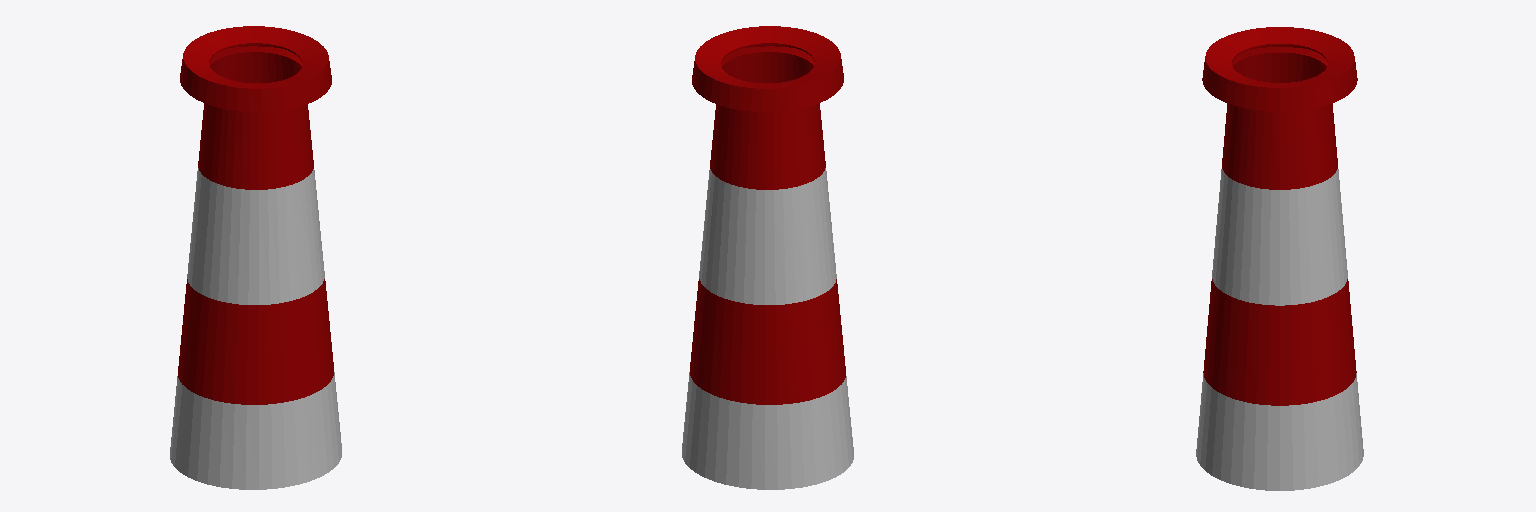
Rendered from lighthouse0.5.obj.
3 views of the same model, side by side, from view 1: azimuth 30°, elevation 25°; view 2: azimuth 150°, elevation 25°; view 3: azimuth 270°, elevation 25° (orthographic).
Parts seen in each view (by area): view 1: Cylinder_Cylinder.001; view 2: Cylinder_Cylinder.001; view 3: Cylinder_Cylinder.001.
Part boxes in pixels (x1,y1,x2,y2): Cylinder_Cylinder.001: (170,26,341,489); Cylinder_Cylinder.001: (682,26,853,489); Cylinder_Cylinder.001: (1196,27,1363,490).
Bounding box in the file's own units: 13.12 × 32.94 × 12.62.